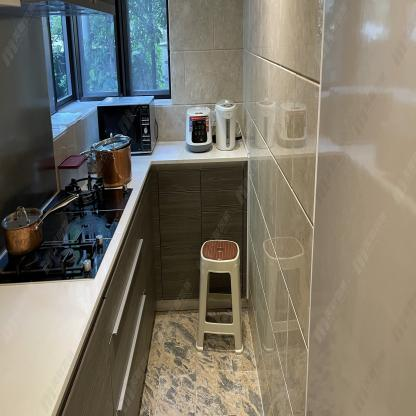Oven: (96, 96, 158, 154)
Stove: (0, 173, 142, 300)
